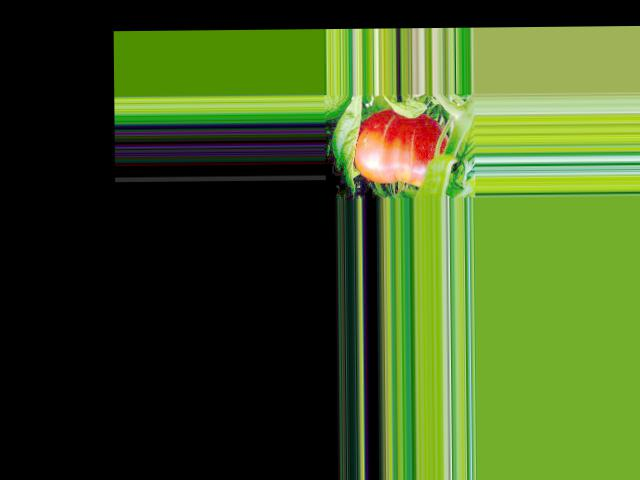tomato: (352, 108, 449, 187)
